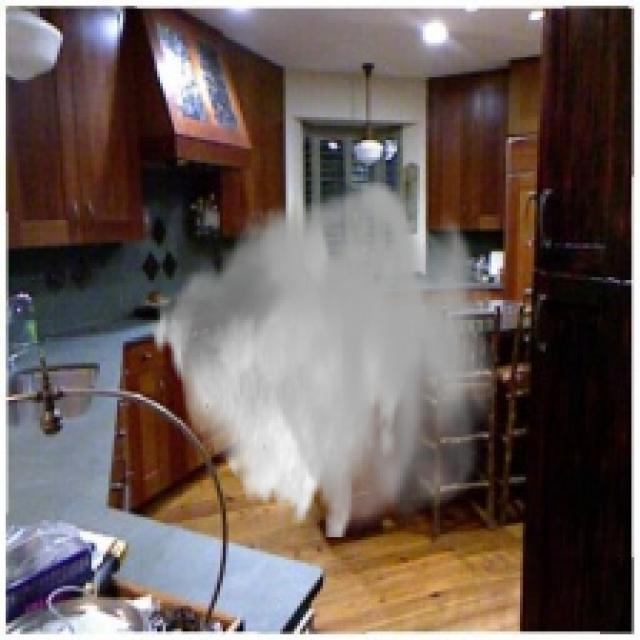Smoke: (148, 174, 498, 537)
